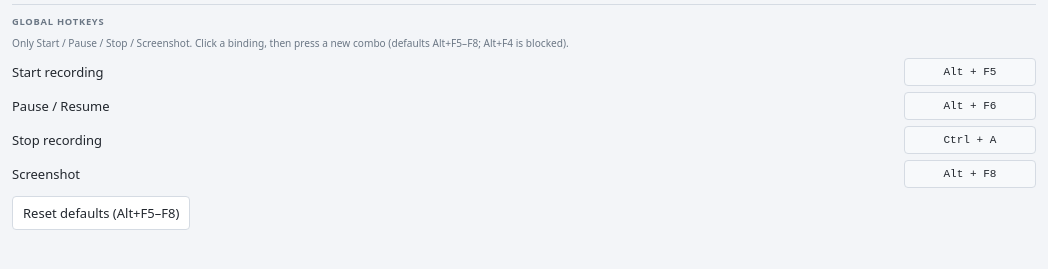
it: HotkeySettings › rejects a shortcut already used by another binding
Click the button "Alt + F5".
click(970, 72)  # box [904,58,1036,86]
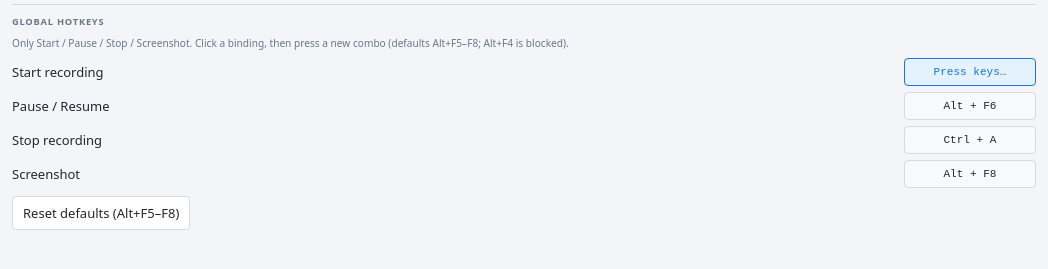
Press a
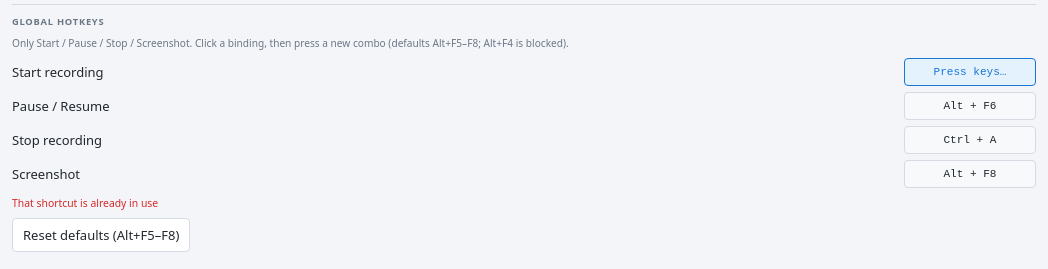
Result: the text "That shortcut is already in use" is shown at [12,196,158,210]
